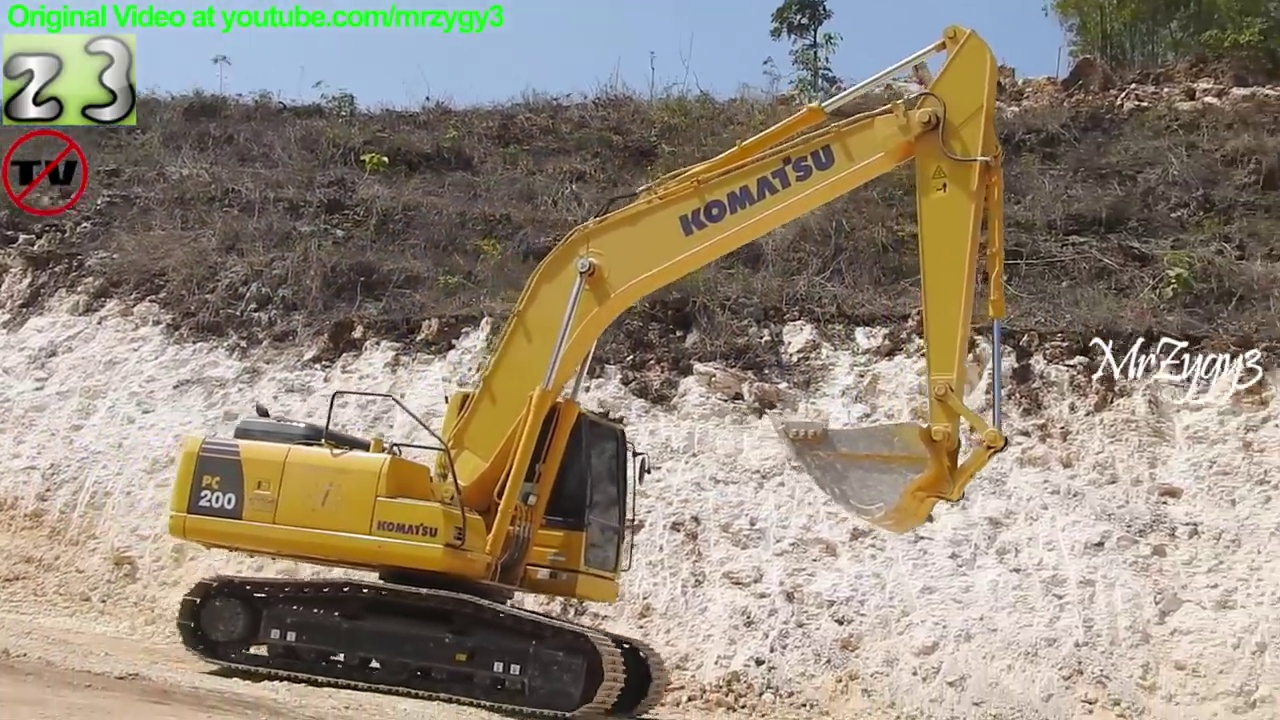excavator: (165, 23, 1021, 720)
